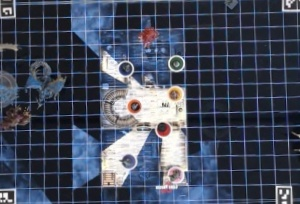blue: (115, 56, 137, 77)
green: (166, 52, 186, 71)
orange: (125, 97, 143, 116)
pink: (165, 164, 186, 185)
red: (152, 119, 172, 138)
violet: (120, 151, 138, 171)
yellow: (167, 83, 183, 100)
